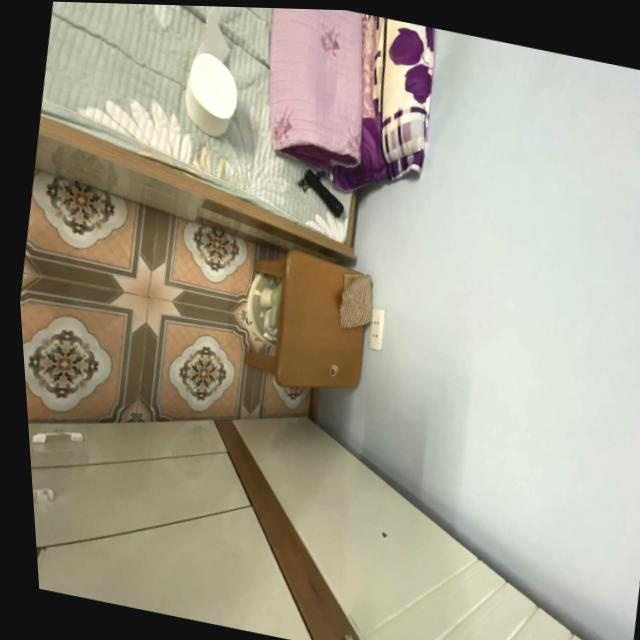outlet: (364, 306, 388, 351)
